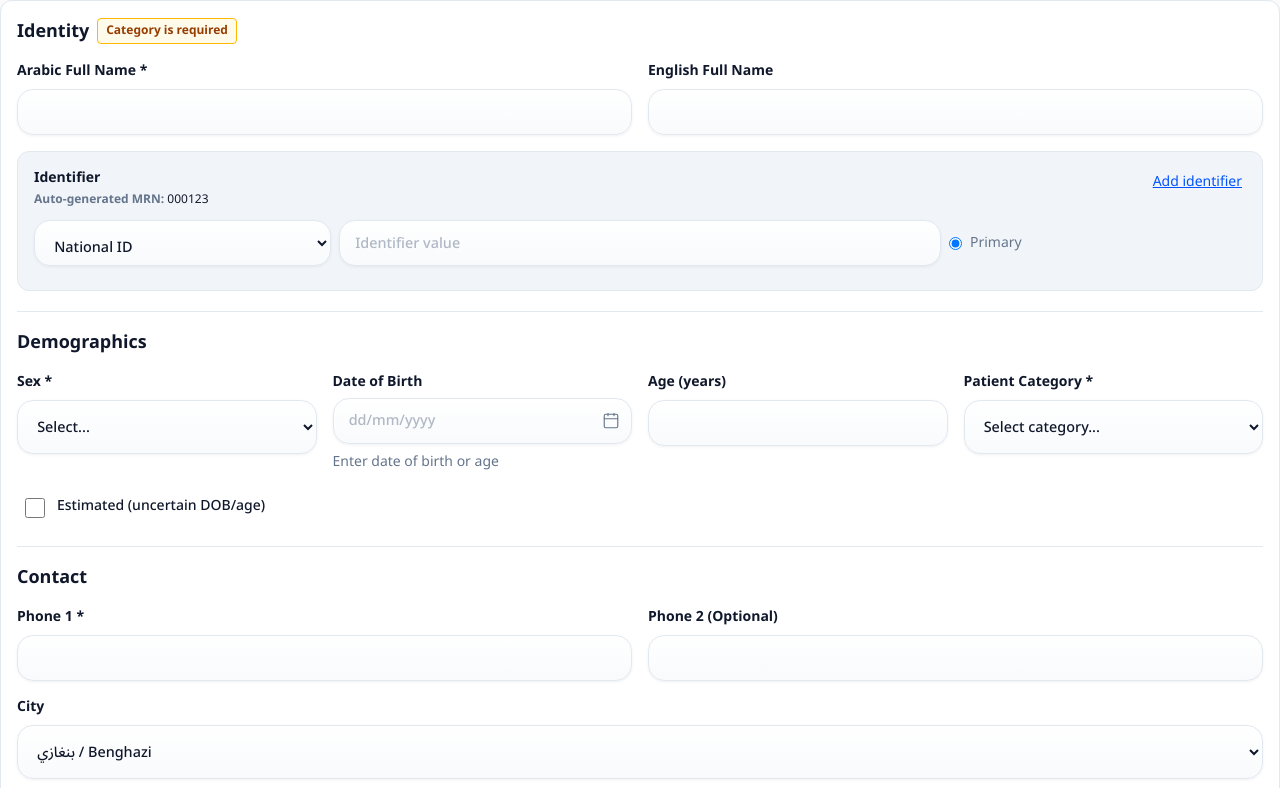
Test: PatientForm workflow hardening › displays possible duplicate candidates when matches exist
Check: the text "Possible Duplicates" is not shown
Type "09" into the field named "Phone 1".
click(324, 658); type("09")  # box [17,635,632,681]
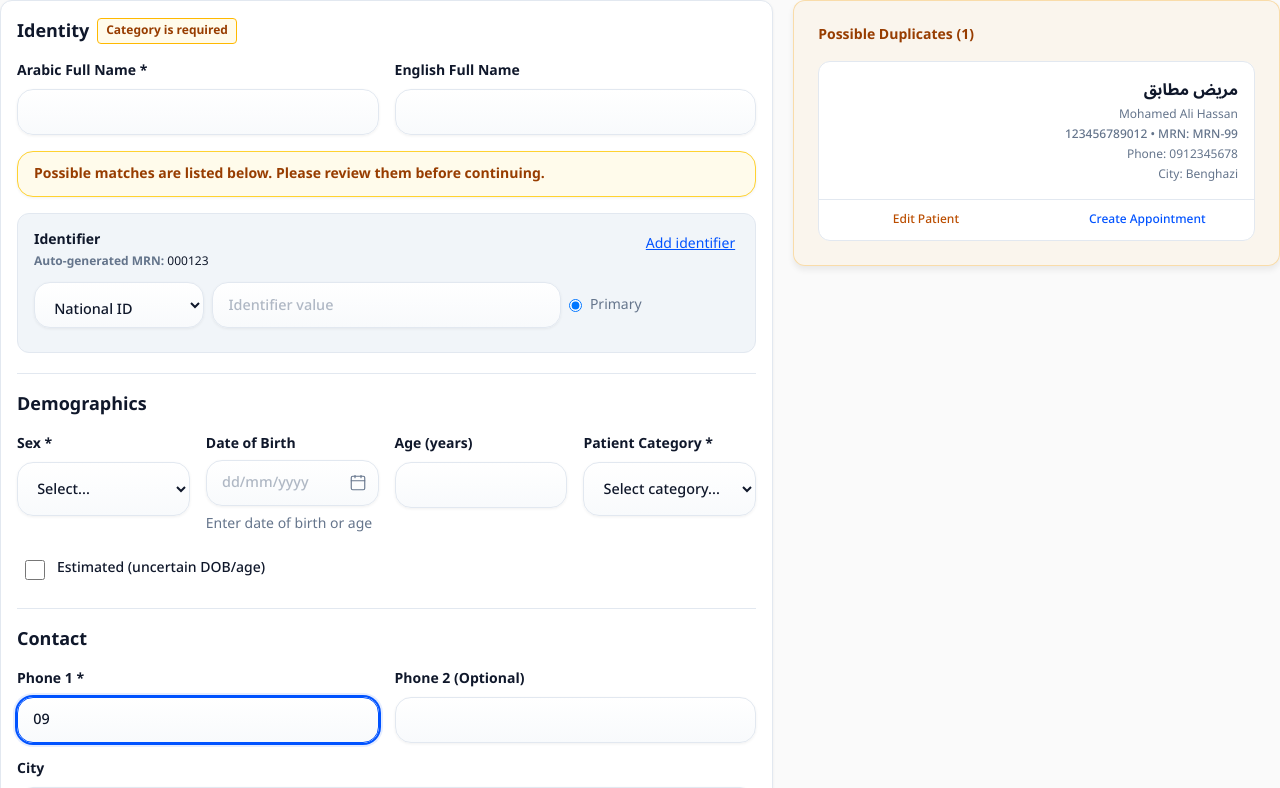
Check: the heading "Possible Duplicates (1)" is shown, box [818,20,974,49]
Check: the text "مريض مطابق" is shown, box [1144,73,1238,107]
